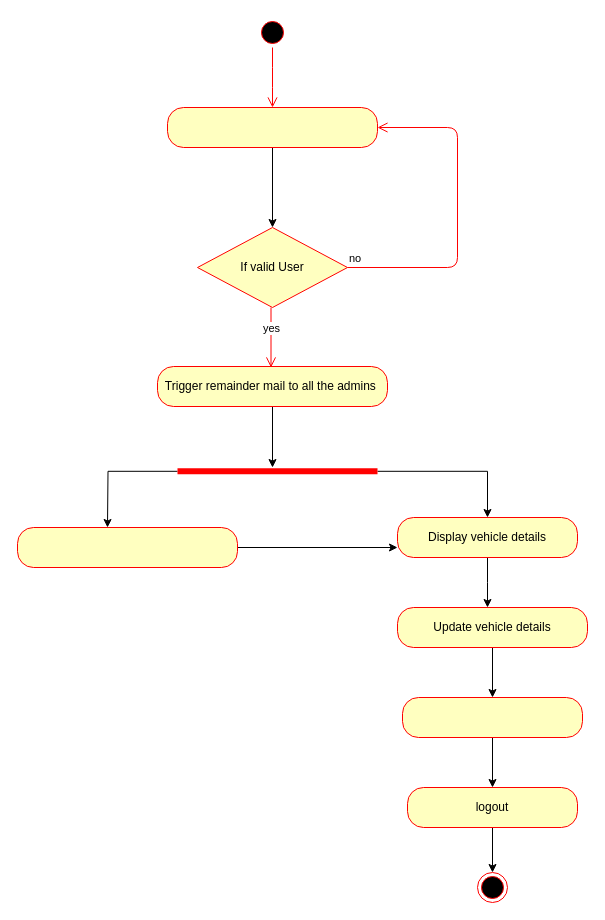
The diagram is 605 pixels wide and 920 high, and some of its shapes have lost their labels. The shapes that lost their labels are listed below. From the top down, each one's centre as x and y in pixels, then its label:
At pixel 272 127: "Admin Login".
At pixel 127 547: "Create vehicle details".
At pixel 492 717: "Search vehicle details".
